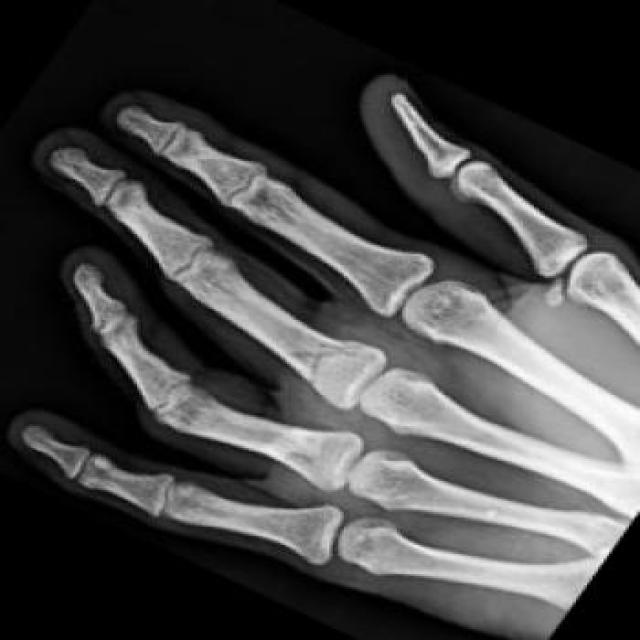Fracture: (274, 333, 373, 389)
